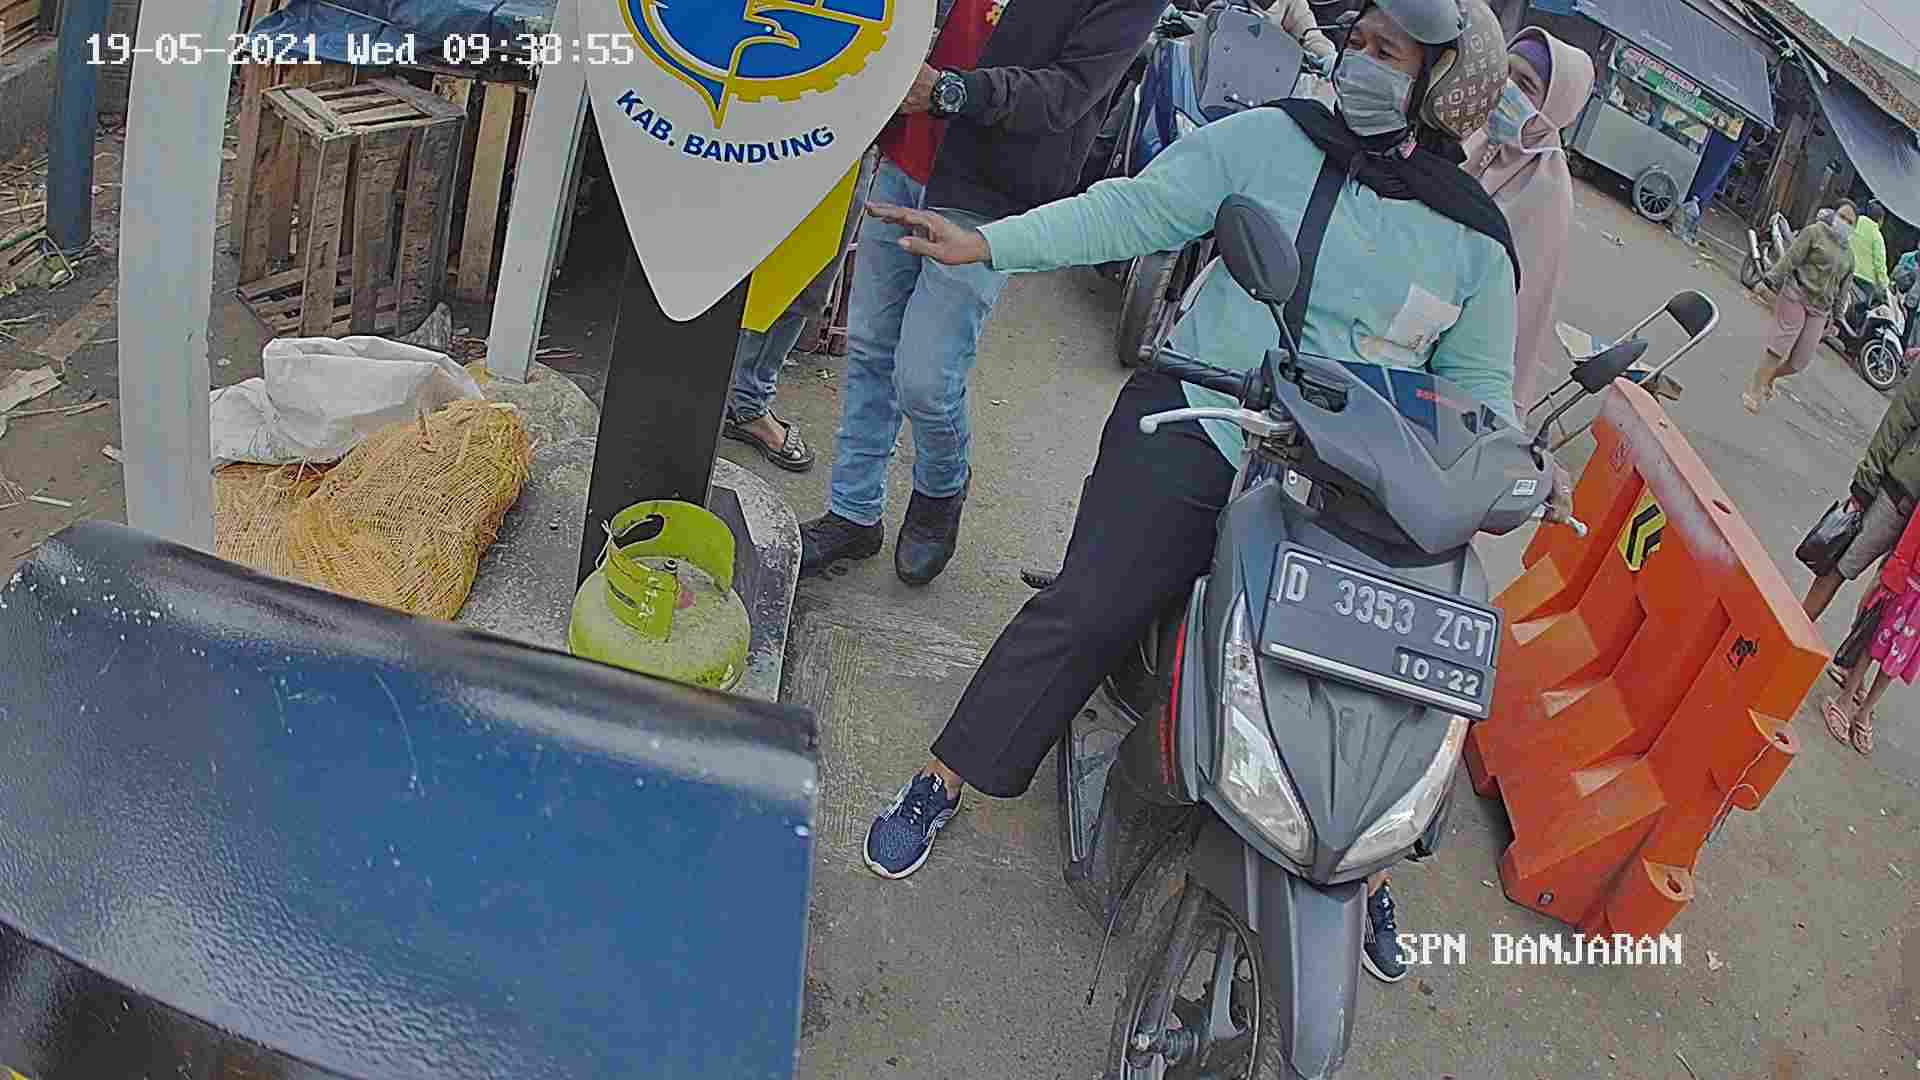motor: (1036, 313, 1528, 1080)
